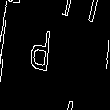P_S: (43, 28, 67, 82)
